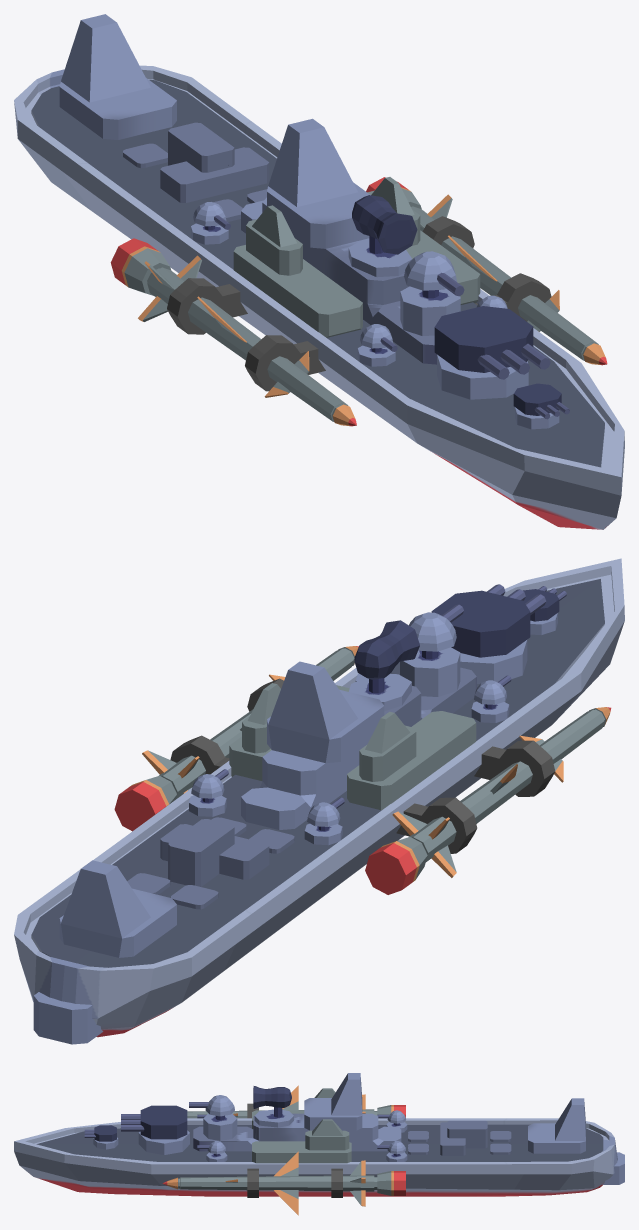
File: war.fbx
3 views of the same model, one above another, from view 1: azimuth 30°, elevation 25°; view 2: azimuth 150°, elevation 25°; view 3: azimuth 270°, elevation 25° (orthographic). The views are drawn at different scales.
Visible parts, largest first — view 1: Cube, Cube.001, Cube.010, Cube.007, Cube.005, Cube.012, Cube.013, Cube.003, Cube.008, Cube.006, Cube.004, Cylinder.010 (+7 smaller); view 2: Cube, Cube.001, Cube.010, Cube.007, Cube.005, Cube.012, Cube.003, Cube.008, Cube.013, Cube.004, Cube.006, Cylinder.012 (+12 smaller); view 3: Cube, Cube.001, Cube.008, Cube.004, Cube.010, Cube.013, Cube.003, Cube.007, Cube.012, Cylinder.012, Cylinder.010, Cube.006 (+9 smaller).
Boxes of the visible parts, x1,y1,x2,y2 form: Cube: [14, 65, 624, 529]; Cube.001: [241, 118, 436, 364]; Cube.010: [59, 14, 176, 139]; Cube.007: [110, 238, 356, 426]; Cube.005: [233, 205, 362, 337]; Cube.012: [167, 216, 551, 391]; Cube.013: [434, 306, 550, 379]; Cube.003: [160, 122, 269, 202]; Cube.008: [366, 177, 607, 365]; Cube.006: [352, 195, 417, 254]; Cube.004: [367, 177, 480, 304]; Cylinder.010: [437, 354, 528, 399]; Cube: [14, 558, 624, 1037]; Cube.001: [241, 661, 476, 829]; Cube.010: [33, 860, 176, 1044]; Cube.007: [365, 707, 611, 894]; Cube.005: [347, 711, 476, 810]; Cube.012: [170, 678, 555, 853]; Cube.003: [160, 819, 269, 886]; Cube.008: [114, 646, 358, 831]; Cube.013: [431, 584, 546, 657]; Cube.004: [229, 683, 349, 780]; Cube.006: [354, 620, 419, 679]; Cylinder.012: [400, 647, 460, 696]; Cube: [14, 1118, 617, 1196]; Cube.001: [193, 1073, 401, 1151]; Cube.008: [162, 1151, 405, 1215]; Cube.004: [252, 1119, 351, 1163]; Cube.010: [528, 1098, 624, 1184]; Cube.013: [121, 1105, 187, 1139]; Cube.003: [440, 1120, 487, 1155]; Cube.007: [187, 1085, 405, 1118]; Cube.012: [247, 1103, 342, 1197]; Cylinder.012: [203, 1113, 237, 1141]; Cylinder.010: [138, 1130, 189, 1154]; Cube.006: [253, 1086, 291, 1108].
Size of the model in its own units: 444 by 284 by 1372.
7 materials, 1 textured.
